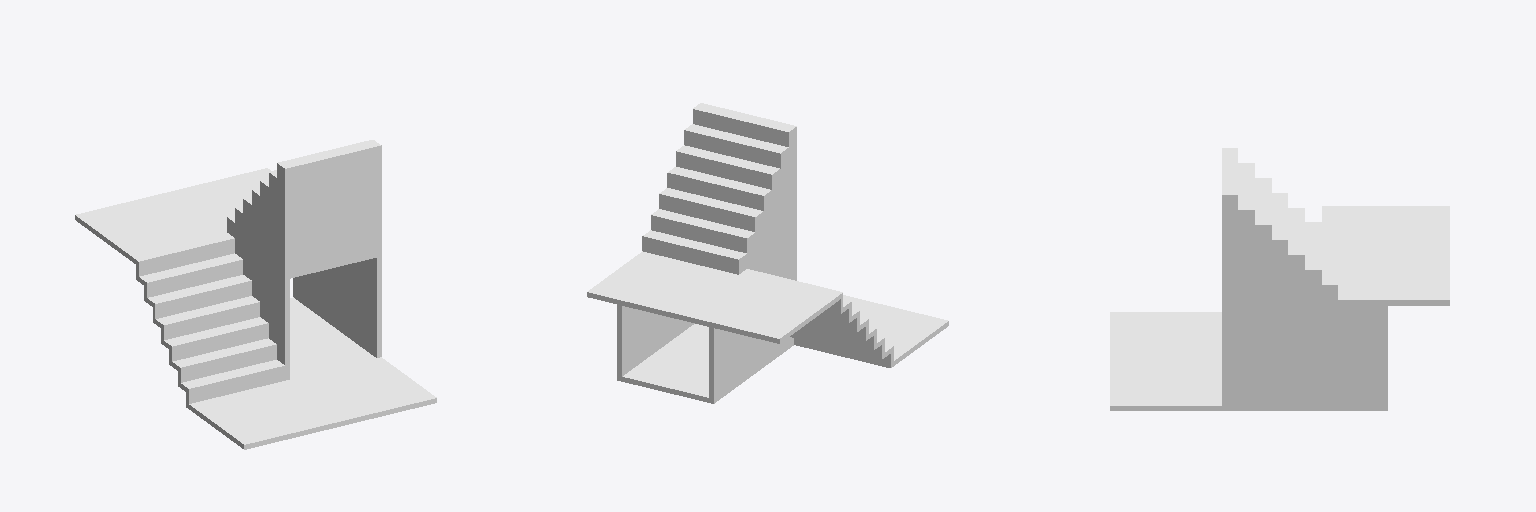
The model's file is ground_stare.obj.
3 renders of one model, left to right at view 1: azimuth 30°, elevation 25°; view 2: azimuth 150°, elevation 25°; view 3: azimuth 270°, elevation 25°, orthographic.
Visible parts, largest first — view 1: ground_stare; view 2: ground_stare; view 3: ground_stare.
Boxes of the visible parts, <box> form: ground_stare: <box>75,140,436,449</box>; ground_stare: <box>587,103,948,403</box>; ground_stare: <box>1110,148,1449,410</box>.
Bounding box in the file's own units: 40 × 43 × 61.